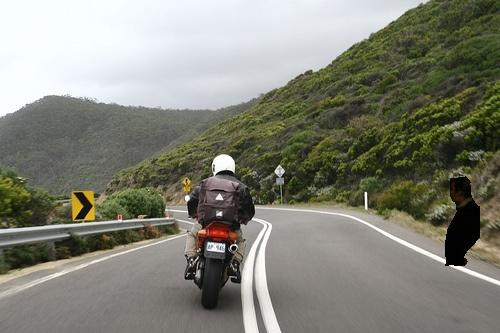tampered: (446, 177, 480, 266)
